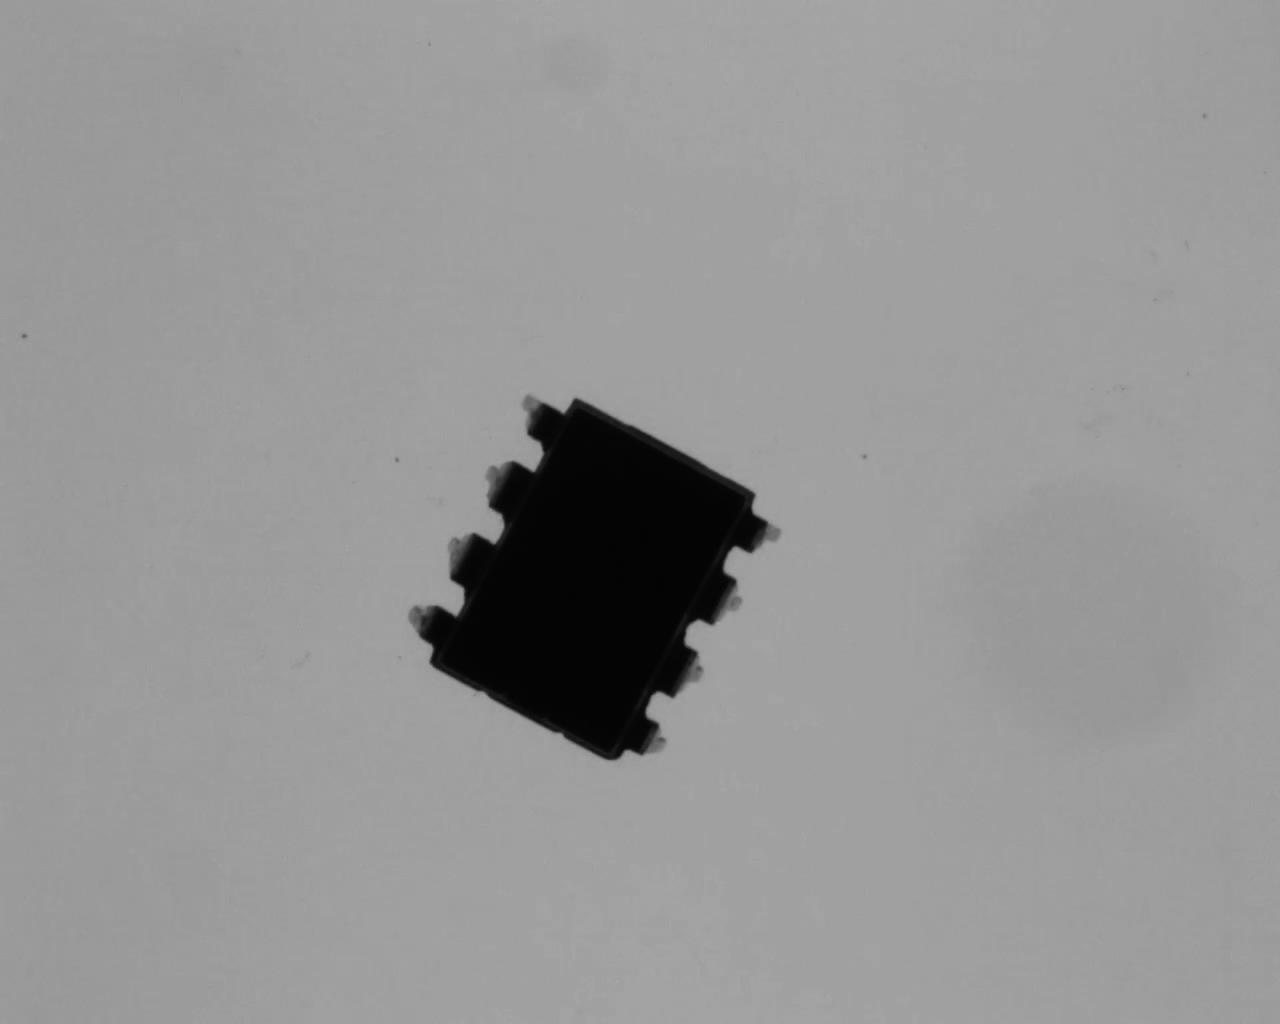Leg: (441, 522, 502, 595), (655, 627, 711, 703), (478, 455, 539, 521), (689, 563, 750, 630), (406, 592, 462, 661), (516, 389, 568, 451), (629, 701, 673, 769), (730, 507, 788, 556)
